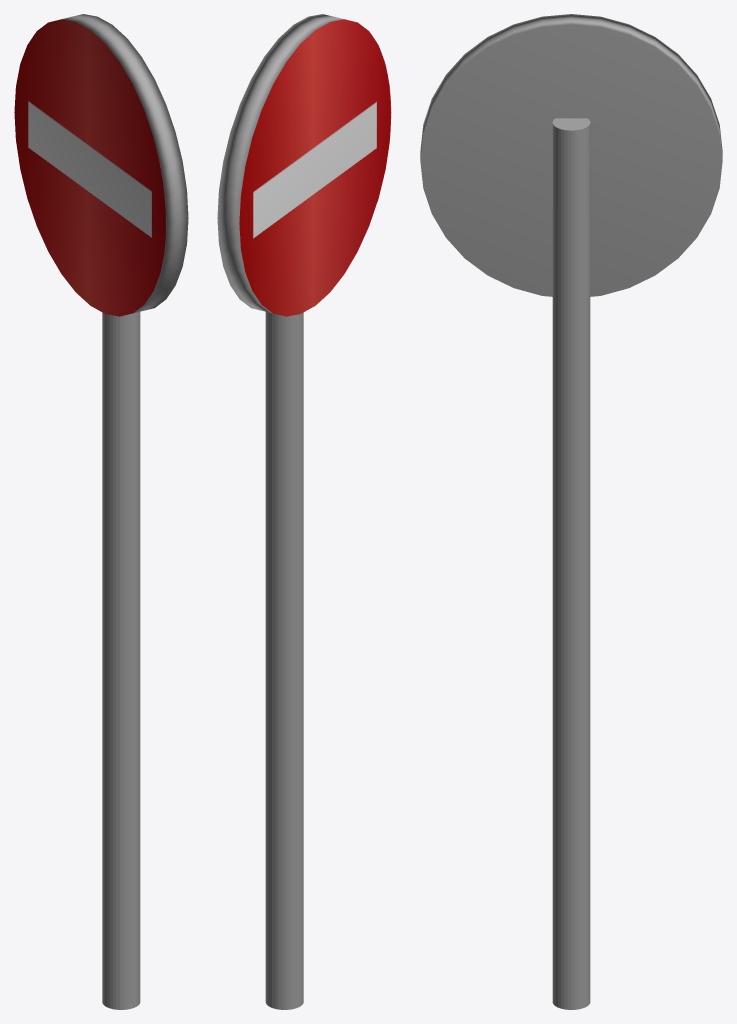
The model's file is ЗнакСтоп 1.fbx.
3 renders of one model, left to right at view 1: azimuth 30°, elevation 25°; view 2: azimuth 150°, elevation 25°; view 3: azimuth 270°, elevation 25°, orthographic.
Parts seen in each view (by area): view 1: Знак; view 2: Знак; view 3: Знак.
Boxes of the visible parts, x1,y1,x2,y2 form: Знак: [14, 14, 188, 1009]; Знак: [217, 14, 391, 1009]; Знак: [420, 14, 722, 1009].
Bounding box in the file's own units: 333 × 59.72 × 1182.
Materials: 2 (1 with a texture image).
